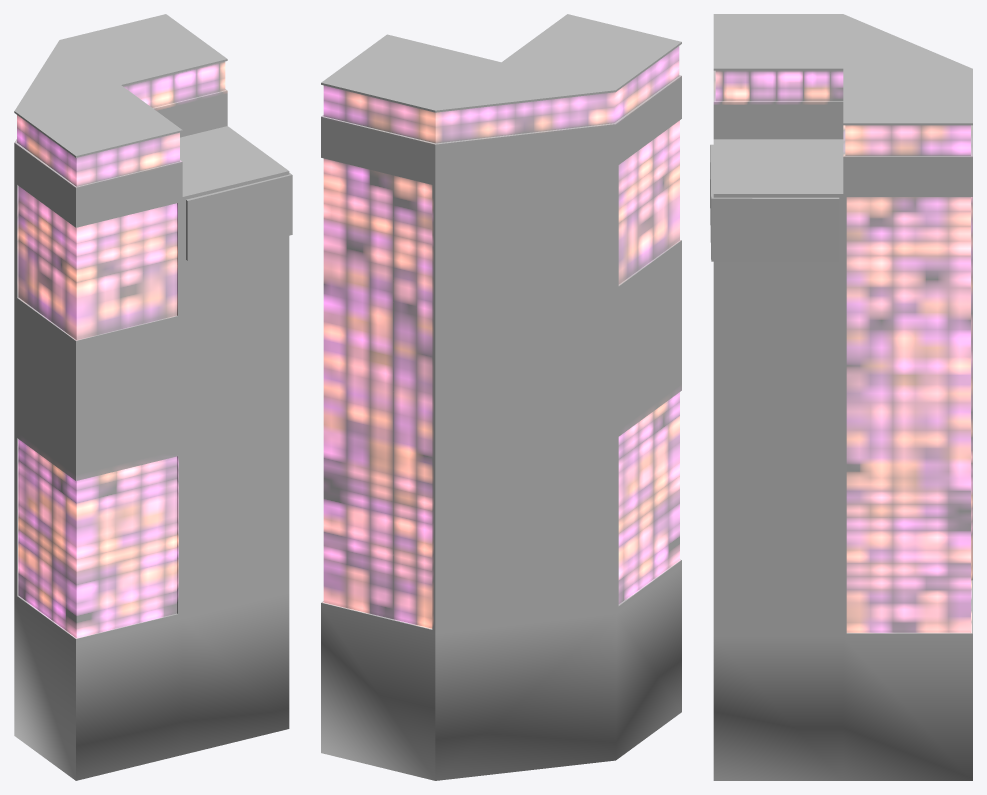
File: BuildingLRoof.fbx
3 views of the same model, side by side, from view 1: azimuth 30°, elevation 25°; view 2: azimuth 150°, elevation 25°; view 3: azimuth 270°, elevation 25° (orthographic). The views are drawn at different scales.
Visible parts, largest first — view 1: BuildingLRoof; view 2: BuildingLRoof; view 3: BuildingLRoof.
Boxes of the visible parts, bbox=[...] form: BuildingLRoof: bbox=[14, 14, 292, 780]; BuildingLRoof: bbox=[321, 14, 681, 780]; BuildingLRoof: bbox=[710, 14, 972, 780].
Bounding box in the file's own units: 203 × 203 × 560.
